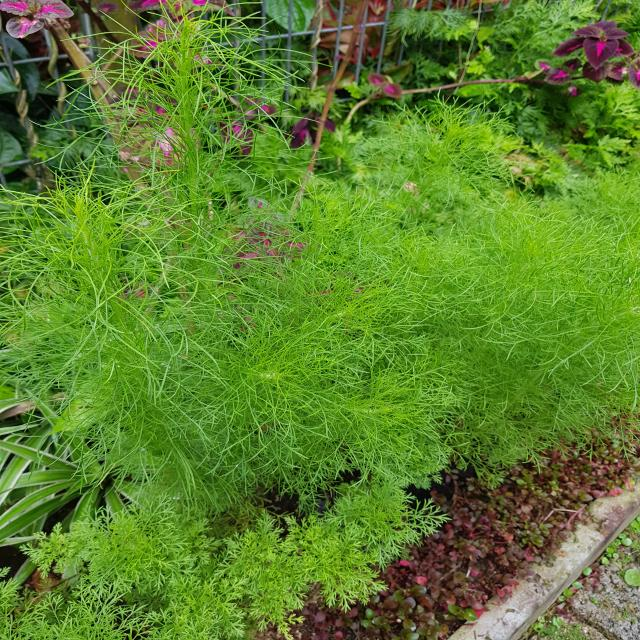Coleus: (537, 17, 640, 99)
Dill: (28, 158, 334, 486), (326, 196, 614, 438)
